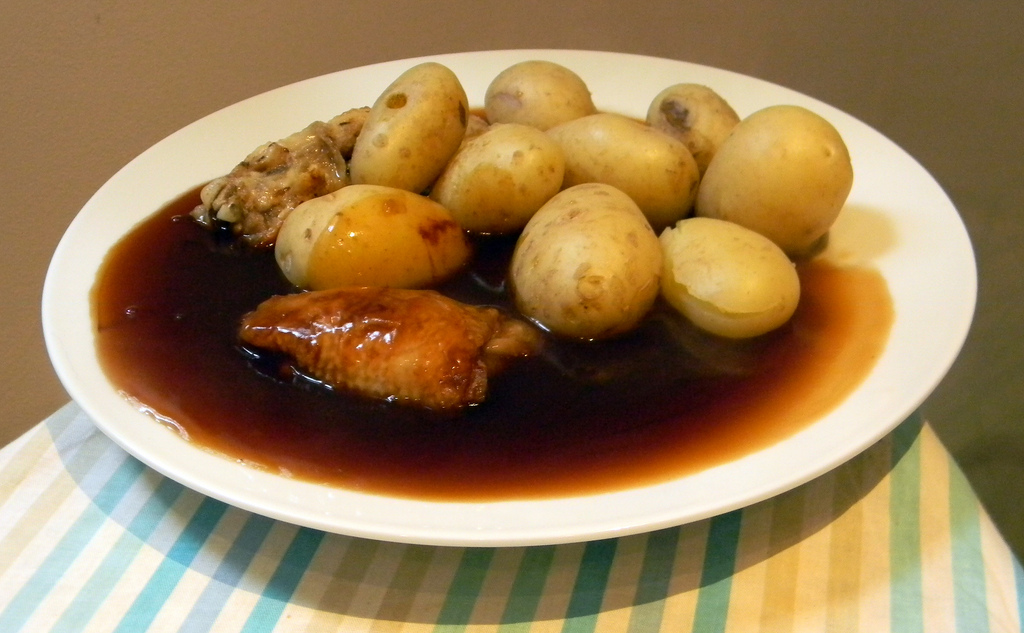boiled potatoes: (310, 61, 851, 331)
